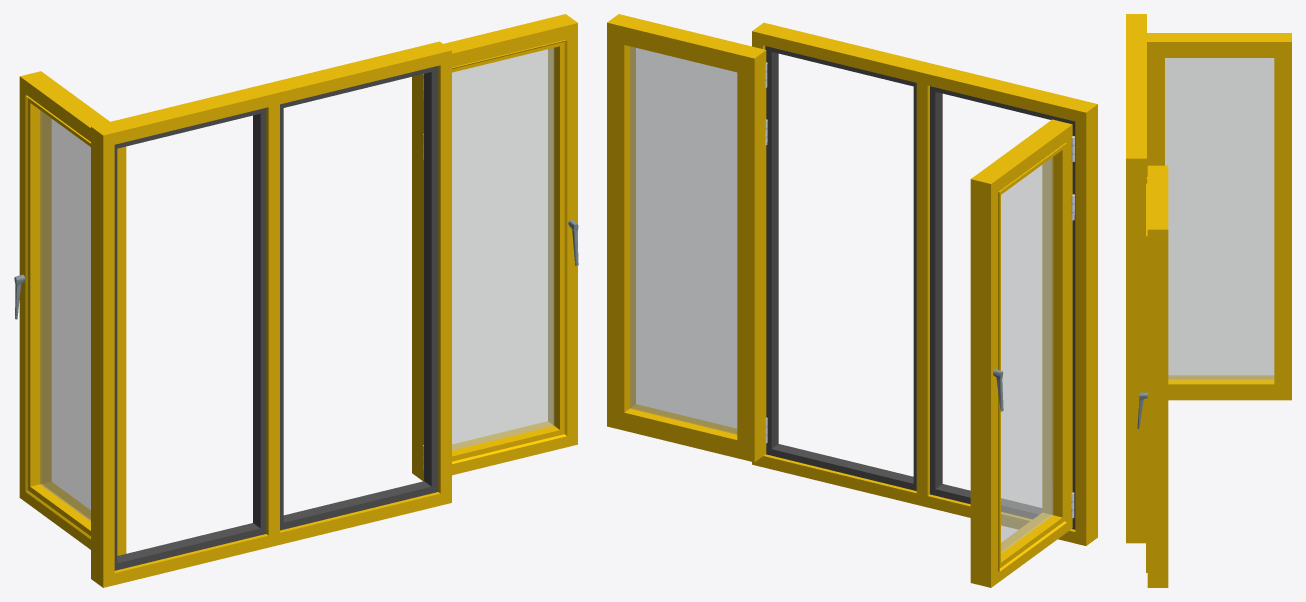
File: Window1 orange open.glb
3 renders of one model, left to right at view 1: azimuth 30°, elevation 25°; view 2: azimuth 150°, elevation 25°; view 3: azimuth 270°, elevation 25°, orthographic. The views are drawn at different scales.
Parts seen in each view (by area): view 1: group1428615546, group1321785906, group1400464106, group1159735631, group1646781689, group1747519074, group1511272544, group1338704312, group1858647824, group175988317, group1919047702, group159885534 (+1 smaller); view 2: group1428615546, group1321785906, group1400464106, group1159735631, group1511272544, group1338704312, group1646781689, group1858647824, group175988317, group159885534, group808587452, group1919047702; view 3: group1321785906, group1428615546, group1747519074, group1159735631.
Part boxes in pixels (<box>): group1428615546: <box>412,14,578,481</box>; group1321785906: <box>14,71,126,555</box>; group1400464106: <box>91,126,114,587</box>; group1159735631: <box>93,41,451,146</box>; group1646781689: <box>424,66,438,492</box>; group1747519074: <box>438,52,451,493</box>; group1511272544: <box>266,104,279,540</box>; group1338704312: <box>253,112,266,528</box>; group1858647824: <box>114,491,451,584</box>; group175988317: <box>117,481,434,569</box>; group1919047702: <box>114,148,117,570</box>; group159885534: <box>280,108,283,523</box>; group1428615546: <box>607,14,766,462</box>; group1321785906: <box>970,119,1072,587</box>; group1400464106: <box>1075,104,1097,545</box>; group1159735631: <box>752,22,1095,121</box>; group1511272544: <box>916,76,929,500</box>; group1338704312: <box>930,86,942,492</box>; group1646781689: <box>765,46,778,455</box>; group1858647824: <box>763,454,1075,543</box>; group175988317: <box>771,444,1075,529</box>; group159885534: <box>913,85,916,487</box>; group808587452: <box>766,46,1075,125</box>; group1919047702: <box>1072,125,1075,522</box>; group1321785906: <box>1147,33,1291,400</box>; group1428615546: <box>1137,165,1168,587</box>; group1747519074: <box>1126,160,1146,543</box>; group1159735631: <box>1126,14,1146,160</box>.
Bounding box in the file's own units: 3.66 × 3.24 × 1.27.
